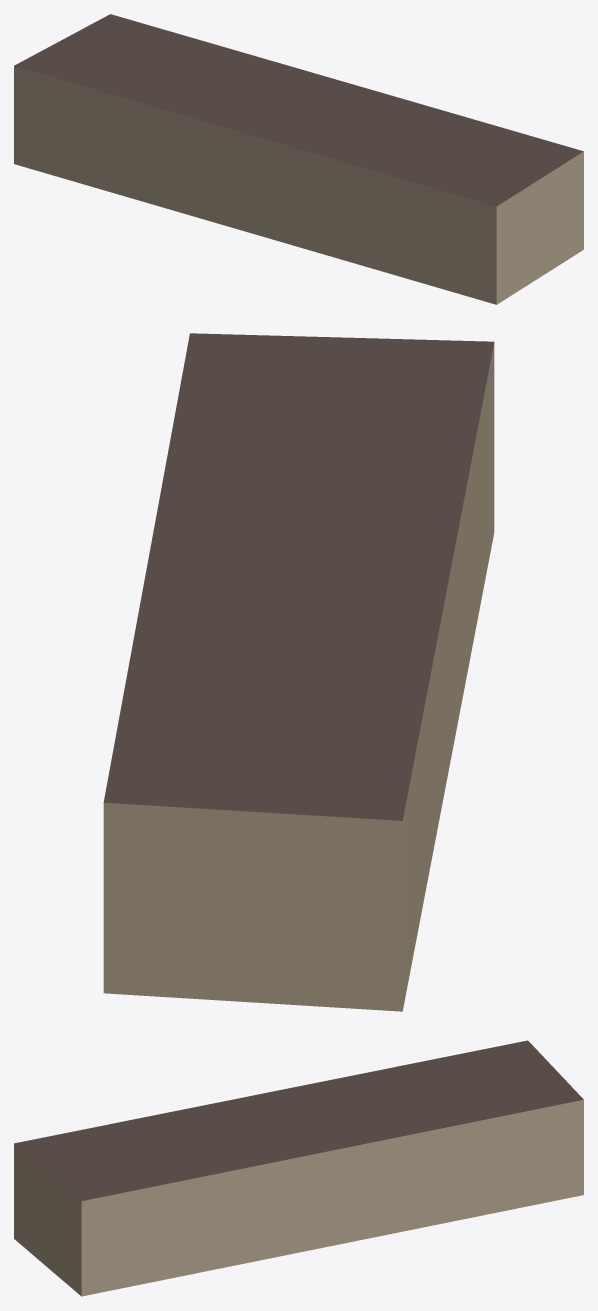
3 renders of one model, top to bottom at view 1: azimuth 30°, elevation 25°; view 2: azimuth 150°, elevation 25°; view 3: azimuth 270°, elevation 25°, orthographic. The views are drawn at different scales.
Parts seen in each view (by area): view 1: HP-w859086178; view 2: HP-w859086178; view 3: HP-w859086178.
Boxes of the visible parts, x1=… form: HP-w859086178: x1=14, y1=14, x2=583, y2=304; HP-w859086178: x1=103, y1=333, x2=494, y2=1011; HP-w859086178: x1=14, y1=1040, x2=583, y2=1296.
Bounding box in the file's own units: 32.56 × 9 × 48.76.
